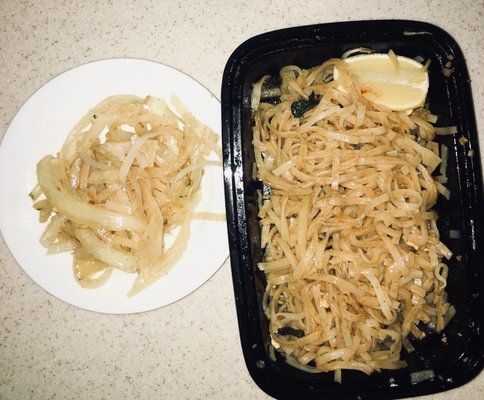sushi: (220, 20, 477, 393)
